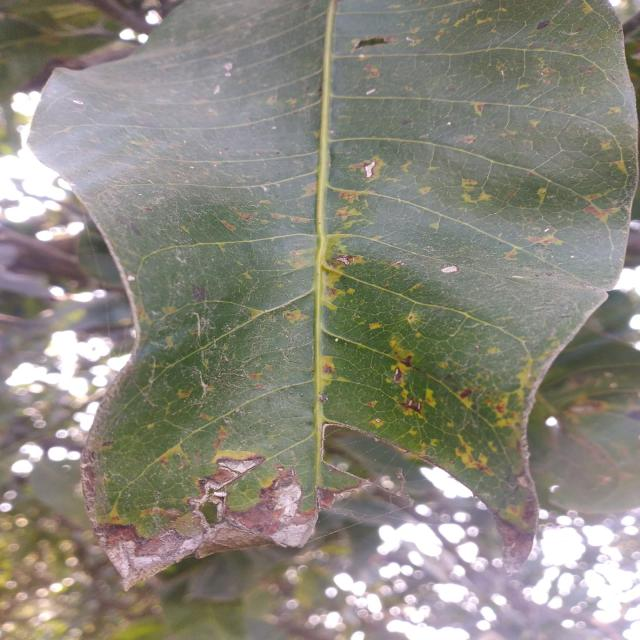Anthracnose: (82, 450, 314, 590)
Bacterial Cancer: (347, 150, 393, 183)
